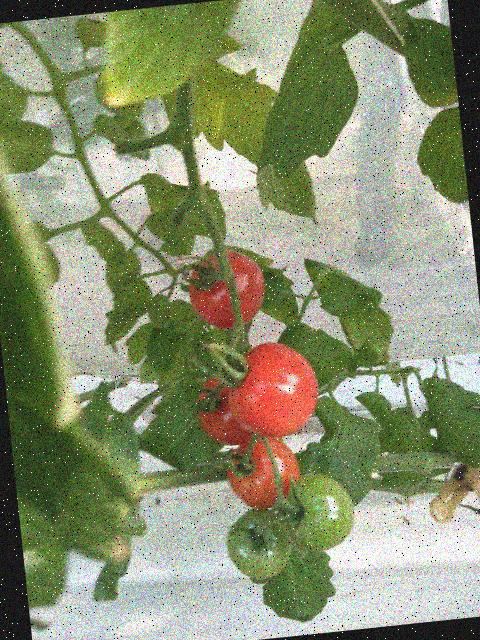l_fully_ripened: (224, 338, 324, 442), (185, 247, 270, 333), (223, 430, 303, 512), (194, 365, 258, 449)
l_green: (280, 469, 359, 554), (223, 504, 296, 582)
